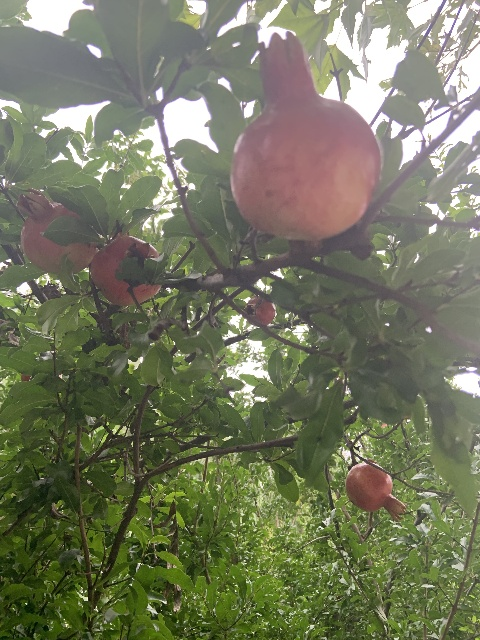ripe: (229, 28, 381, 241), (18, 188, 96, 276), (90, 232, 160, 306), (345, 460, 406, 521), (245, 296, 275, 325)
